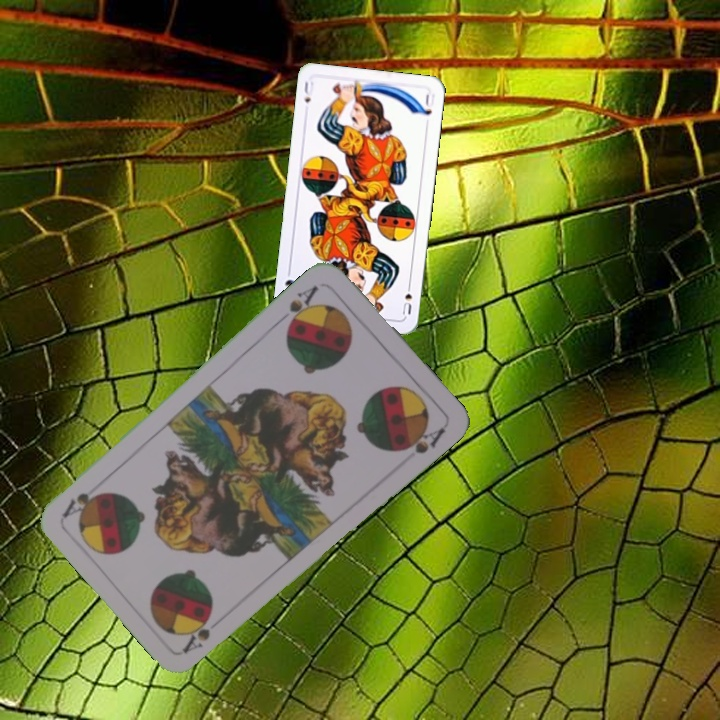SA: (283, 281, 322, 331), (178, 610, 215, 656)
SU: (398, 278, 414, 317), (300, 77, 316, 105)
